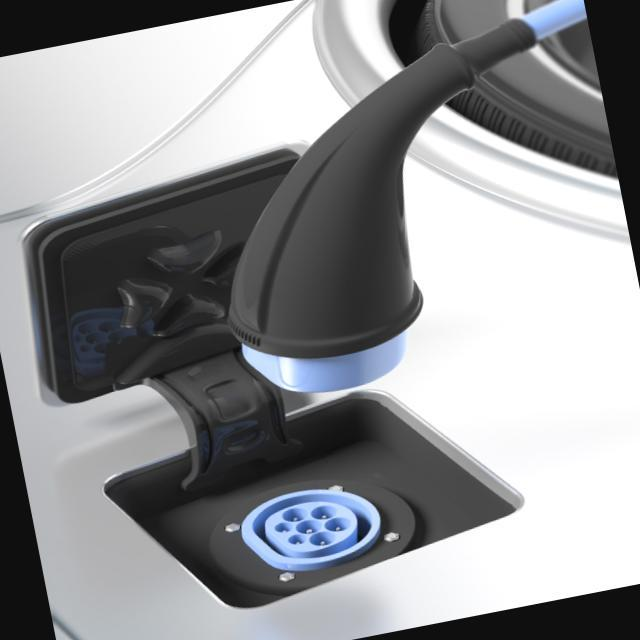Type 2: (217, 457, 428, 607)
